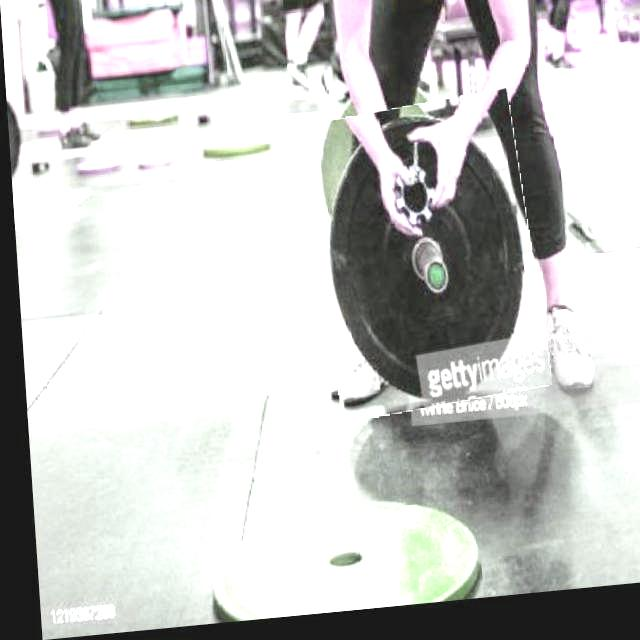barbell: (302, 101, 542, 427)
